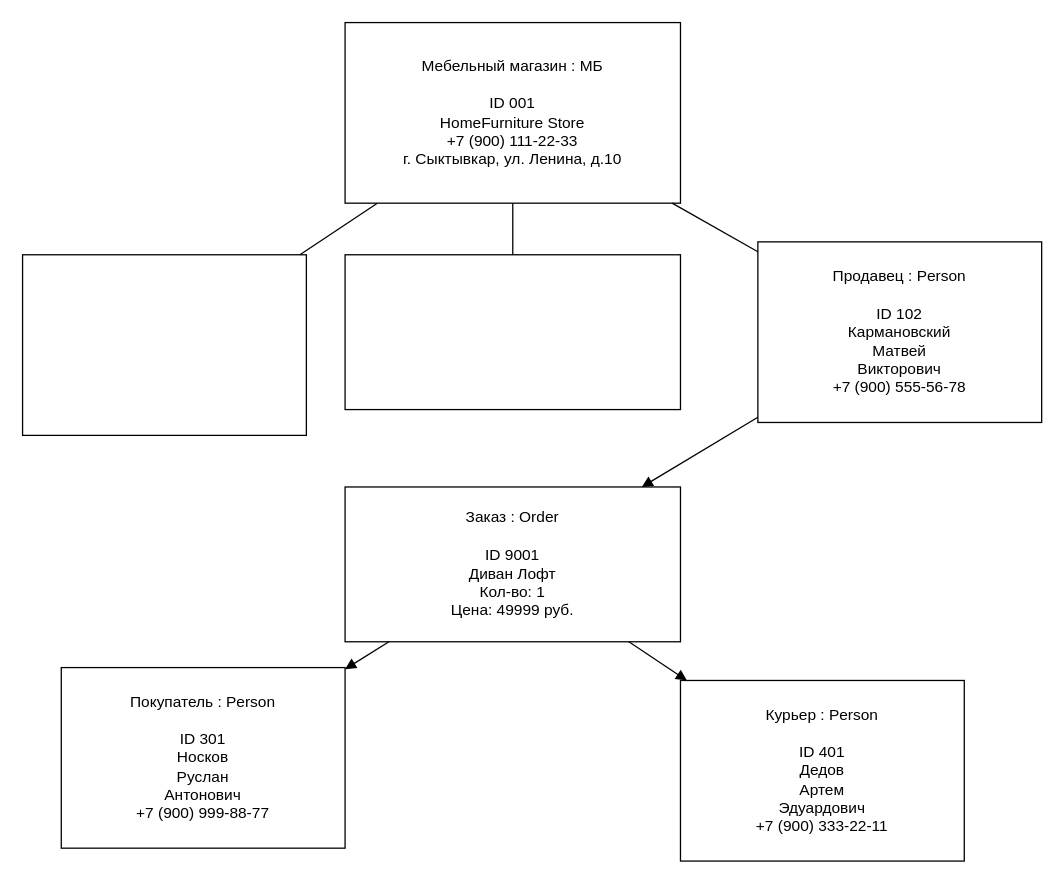
Image size: 1064x884. Some labels were removed from this diagram. Here are the shapes that lost their labels. From the top down, the centre of each, then its label:
pixel 163 344: Менеджер : Person ID 101 Лундин Сергей Александрович +7 (900) 555-12-34
pixel 512 331: Товар : Furniture ID 5001 Диван Лофт Цена: 49999 руб. Категория: Диваны
